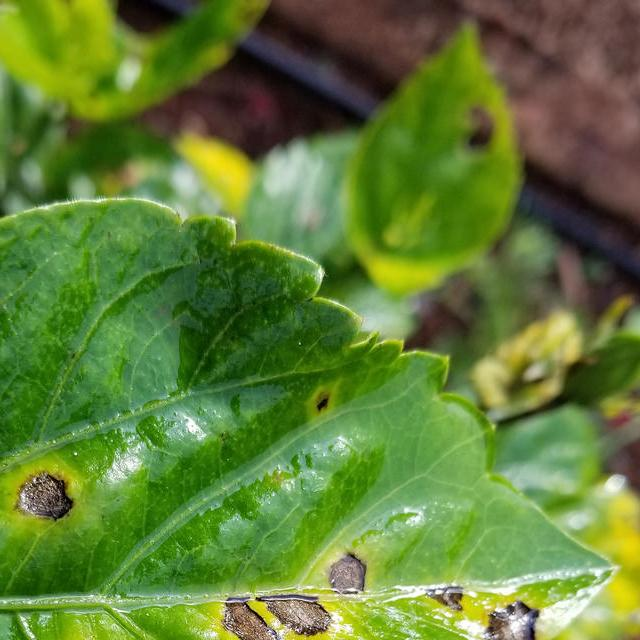Tomato leaf bacterial spot: (0, 186, 627, 640)
